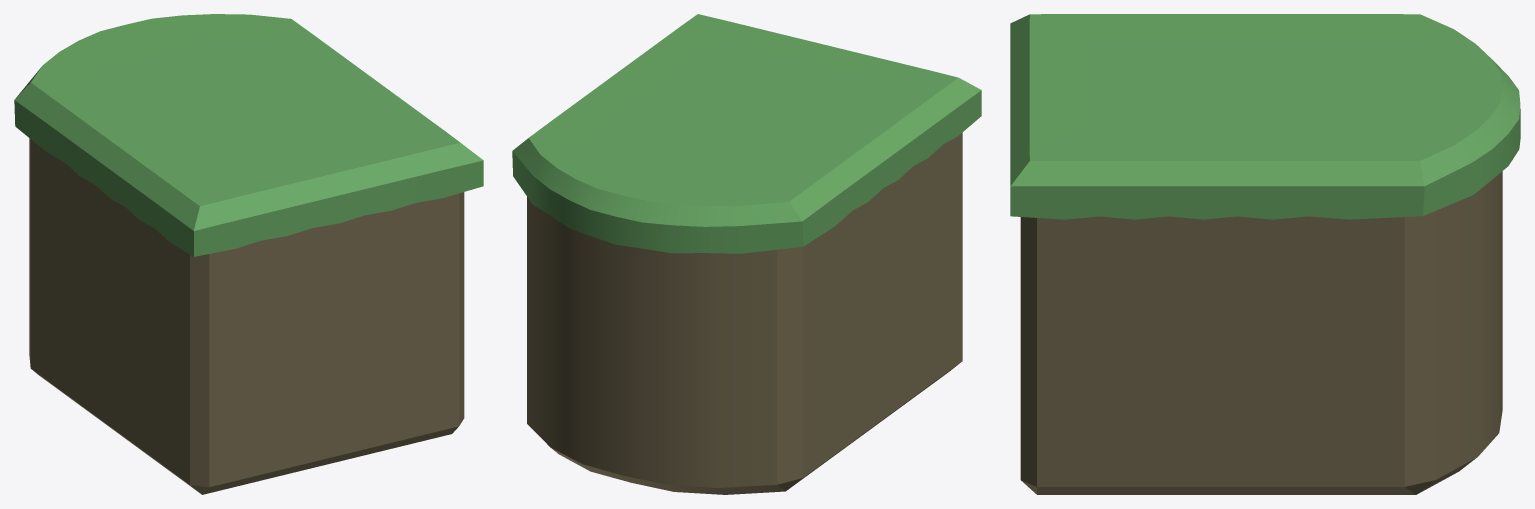
File: Grass_block_edge (1).fbx
3 renders of one model, left to right at view 1: azimuth 30°, elevation 25°; view 2: azimuth 150°, elevation 25°; view 3: azimuth 270°, elevation 25°, orthographic. The views are drawn at different scales.
Parts seen in each view (by area): view 1: Dirt, Grass; view 2: Dirt, Grass; view 3: Dirt, Grass.
Part boxes in pixels (box(x1,y1,x2,y2)): Dirt: box(29, 138, 464, 494); Grass: box(14, 14, 483, 256); Dirt: box(527, 132, 962, 494); Grass: box(512, 14, 981, 253); Dirt: box(1020, 171, 1502, 494); Grass: box(1010, 14, 1520, 219).
Bounding box in the file's own units: 118 × 113 × 156.
